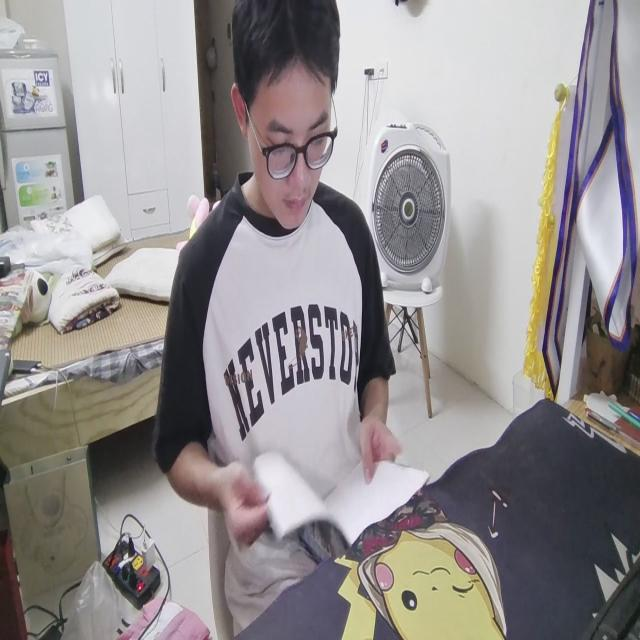book: (252, 446, 432, 553)
student: (152, 0, 404, 607)
